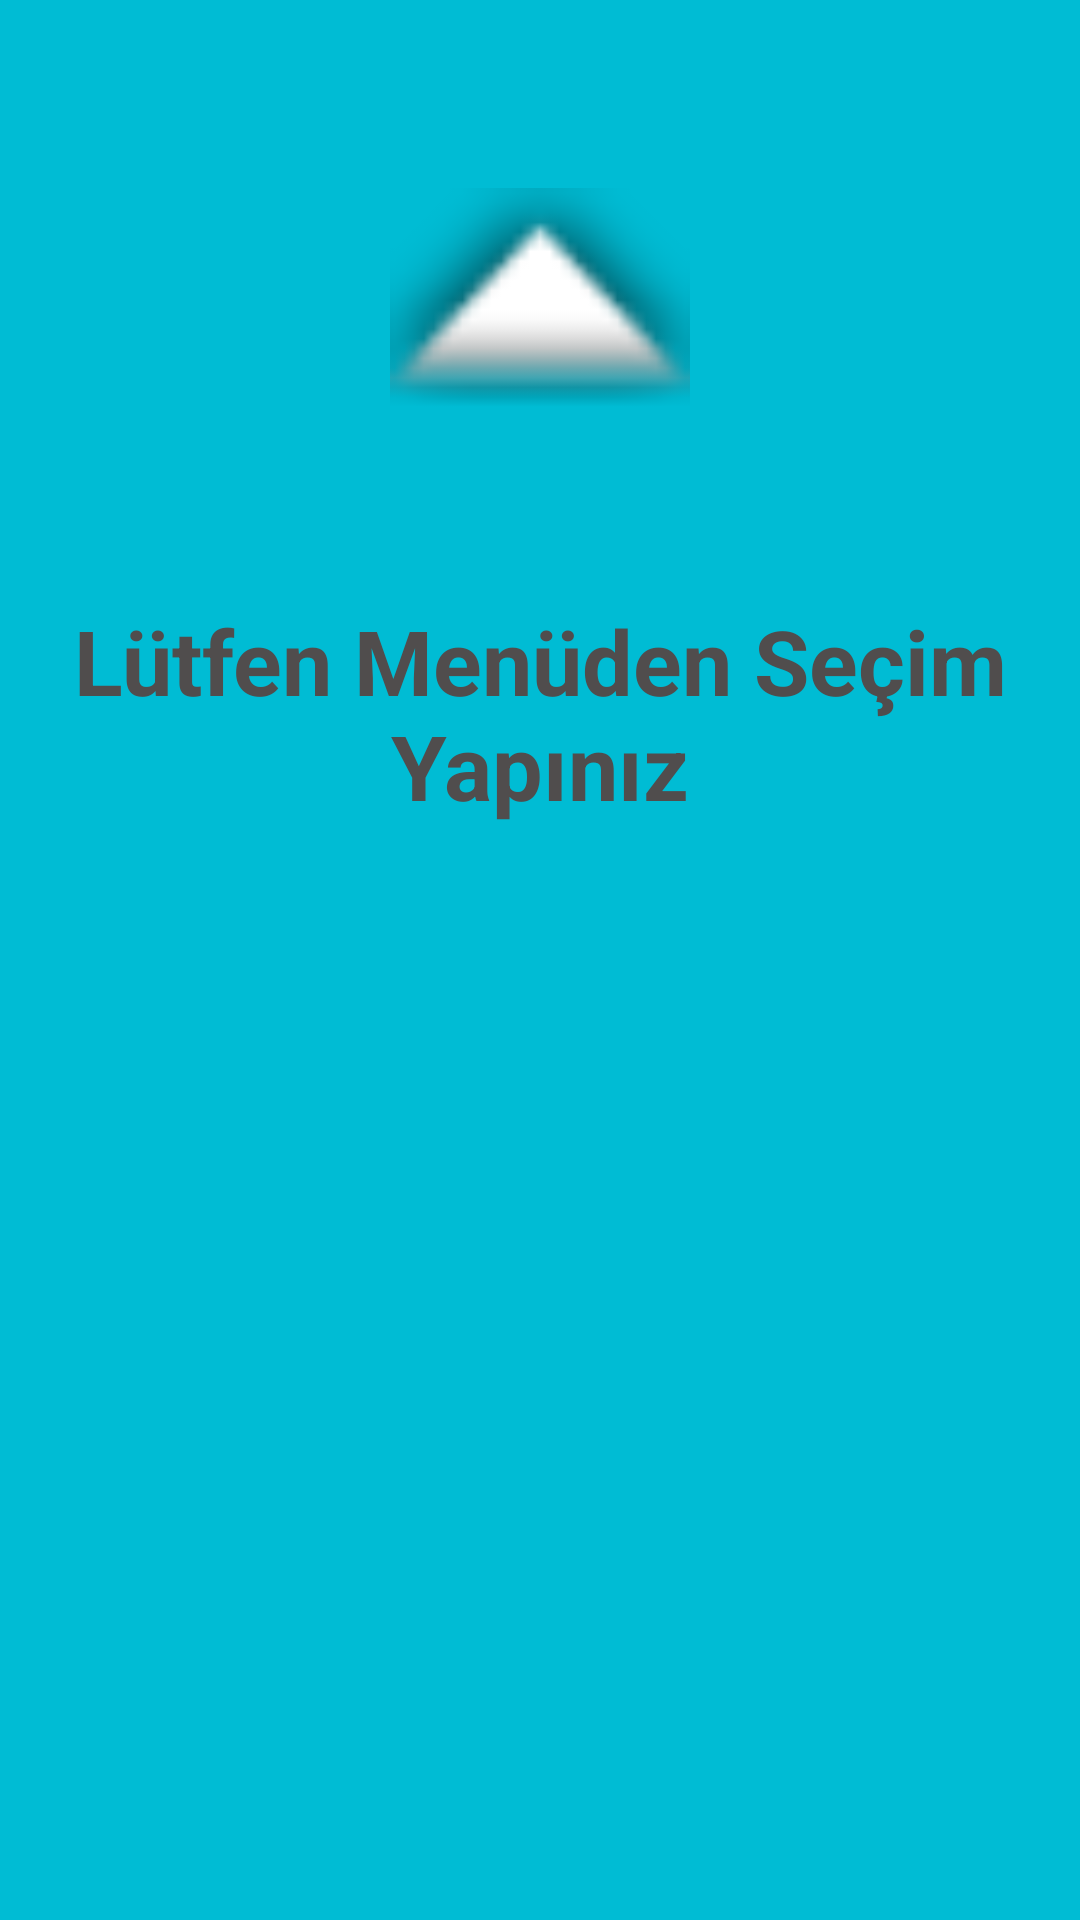

Screen size 1080 x 1920. Icon name, then its box in pixels as (x1, y1, x2, y2):
arrow up float: (390, 199, 690, 398)
